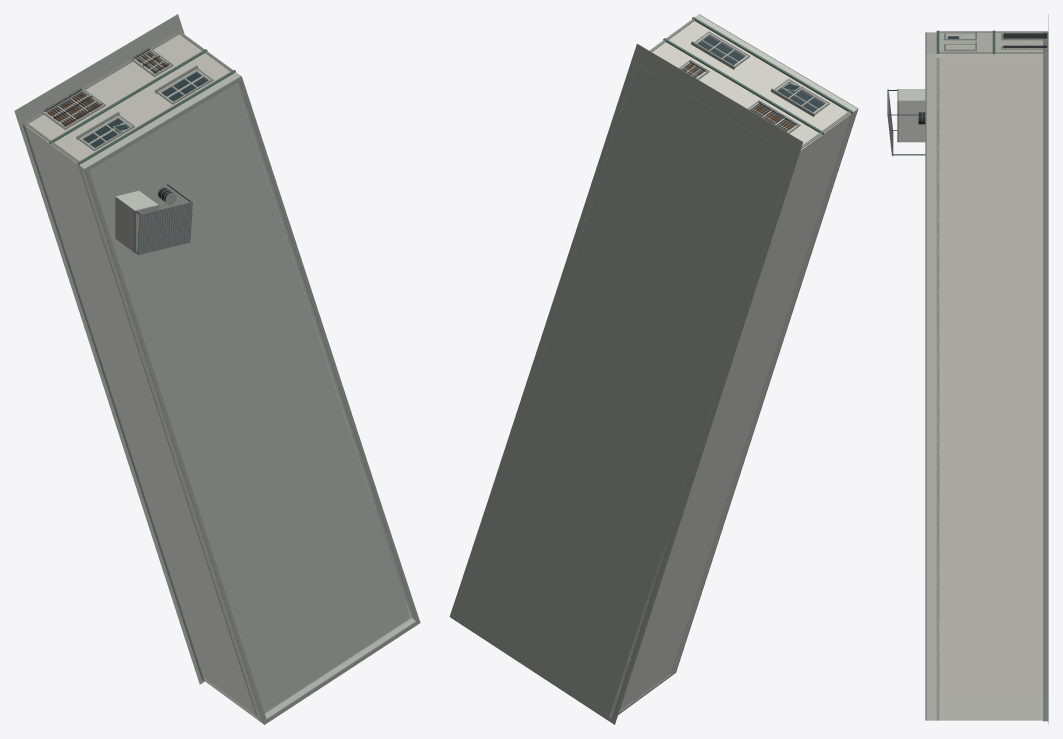
Rendered from lot_1134711.obj.
3 renders of one model, left to right at view 1: azimuth 30°, elevation 25°; view 2: azimuth 150°, elevation 25°; view 3: azimuth 270°, elevation 25°, orthographic. The views are drawn at different scales.
Visible parts, largest first — view 1: roof_slab_1832, wall_20, parapet_cap_1900, parapet_1852, lot_paving_0, canopy_sheet_2004, plinth_32, rooftop_room_1948, wall_344, wall_368, floor_band_1796, floor_band_1784; view 2: lot_paving_0, wall_20, parapet_1852, parapet_cap_1900, wall_368, floor_band_1796, floor_band_1784, wall_356; view 3: wall_116, wall_92, parapet_1852, plinth_128, roof_slab_1832, wall_68, rooftop_room_1948, parapet_cap_1900, plinth_104, lot_paving_0.
Part boxes in pixels (bbox=[...]): roof_slab_1832: bbox=[78, 83, 410, 716]; wall_20: bbox=[25, 126, 255, 715]; parapet_cap_1900: bbox=[84, 76, 420, 724]; parapet_1852: bbox=[79, 72, 415, 724]; lot_paving_0: bbox=[14, 14, 204, 684]; canopy_sheet_2004: bbox=[137, 201, 192, 254]; plinth_32: bbox=[22, 124, 204, 681]; rooftop_room_1948: bbox=[115, 191, 157, 252]; wall_344: bbox=[86, 67, 143, 104]; wall_368: bbox=[120, 93, 171, 125]; floor_band_1796: bbox=[77, 70, 235, 164]; floor_band_1784: bbox=[49, 49, 207, 143]; lot_paving_0: bbox=[449, 43, 803, 724]; wall_20: bbox=[609, 113, 852, 718]; parapet_1852: bbox=[670, 14, 857, 676]; parapet_cap_1900: bbox=[675, 14, 858, 672]; wall_368: bbox=[734, 57, 786, 90]; floor_band_1796: bbox=[692, 17, 852, 113]; floor_band_1784: bbox=[663, 38, 823, 134]; wall_356: bbox=[718, 69, 771, 101]; wall_116: bbox=[936, 53, 1042, 575]; wall_92: bbox=[936, 576, 1042, 698]; parapet_1852: bbox=[926, 32, 936, 720]; plinth_128: bbox=[1043, 54, 1048, 576]; roof_slab_1832: bbox=[936, 40, 939, 720]; wall_68: bbox=[936, 698, 1042, 720]; rooftop_room_1948: bbox=[898, 89, 925, 142]; parapet_cap_1900: bbox=[925, 32, 926, 720]; plinth_104: bbox=[1043, 576, 1048, 698]; lot_paving_0: bbox=[1048, 14, 1048, 724].
Size of the model in its own units: 19.8 by 36.74 by 8.07.
